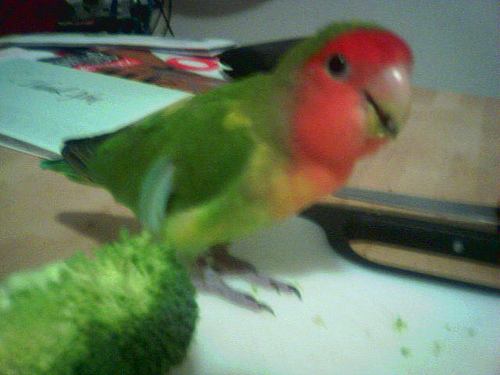broccoli: (2, 228, 200, 374)
